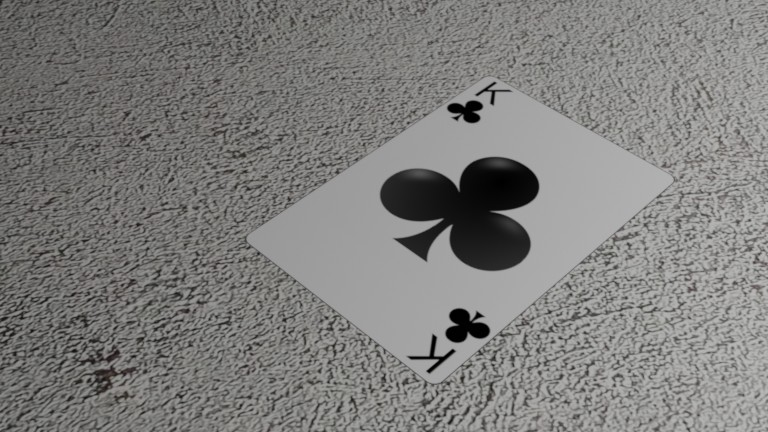king_of_clubs: (398, 299, 502, 382), (437, 77, 519, 130)
